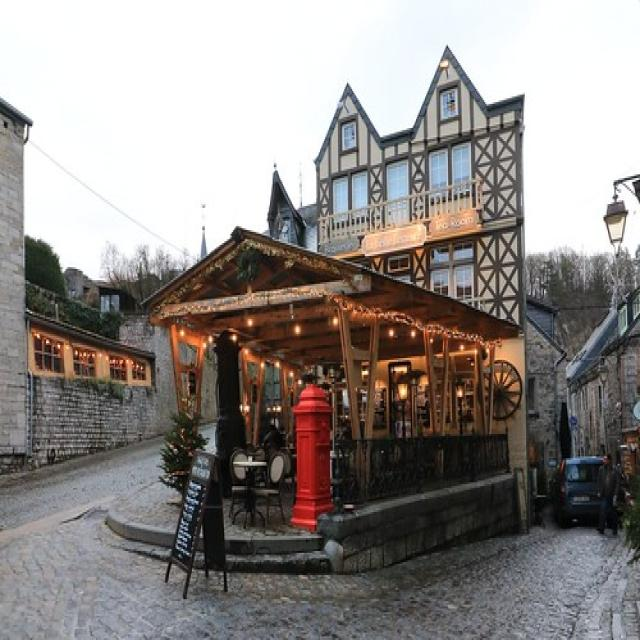building: (137, 67, 544, 551)
